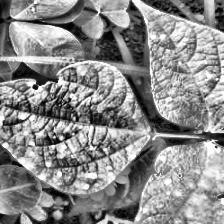Bean Rust: (0, 59, 142, 194), (129, 0, 224, 126), (88, 141, 224, 224)
